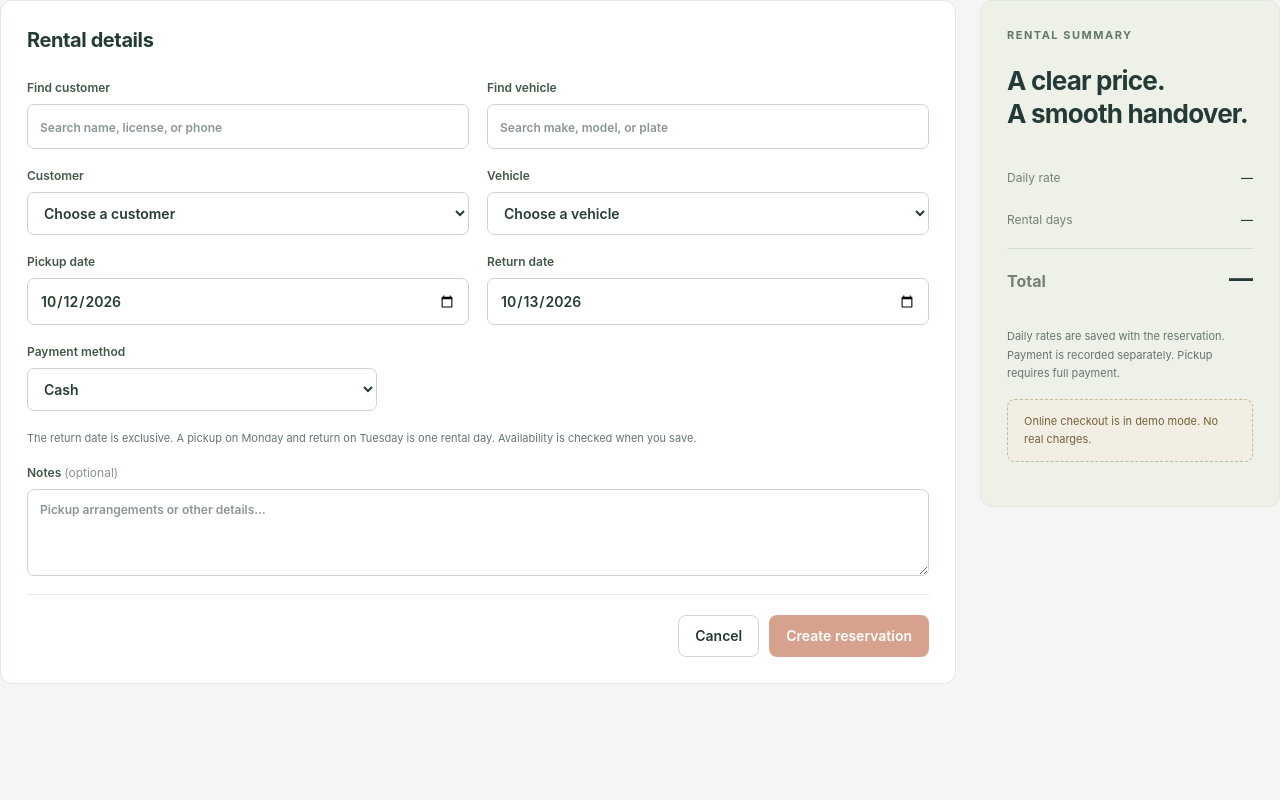
Test: booking conflicts disable reservation submission and show the server reason
Select "Jordan Lee · DEMO-1002" in the dropdown labelled "Customer". click: (248, 214)
box: [27,192,469,235]
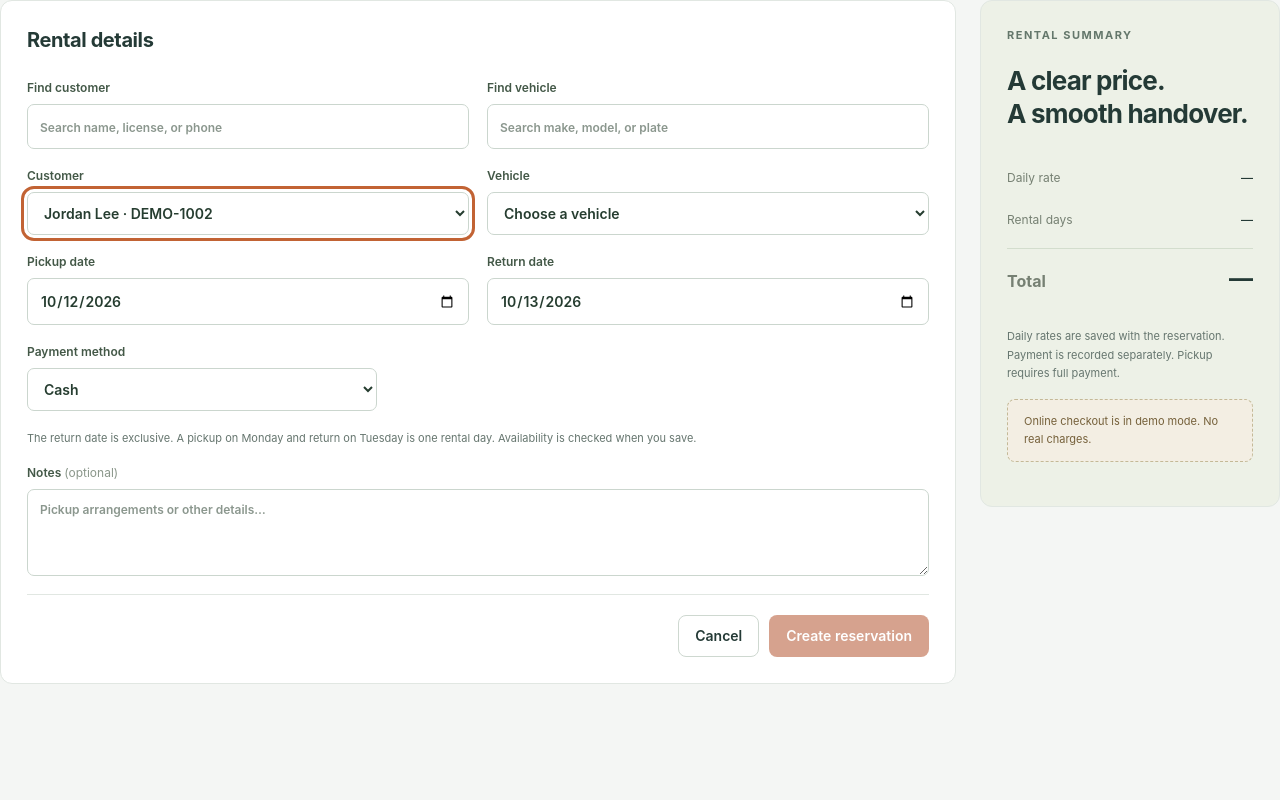
Select "Toyota Corolla · RD-100 · $45.00/day" in the dropdown labelled "Vehicle". click: (708, 214)
box: [487,192,929,235]
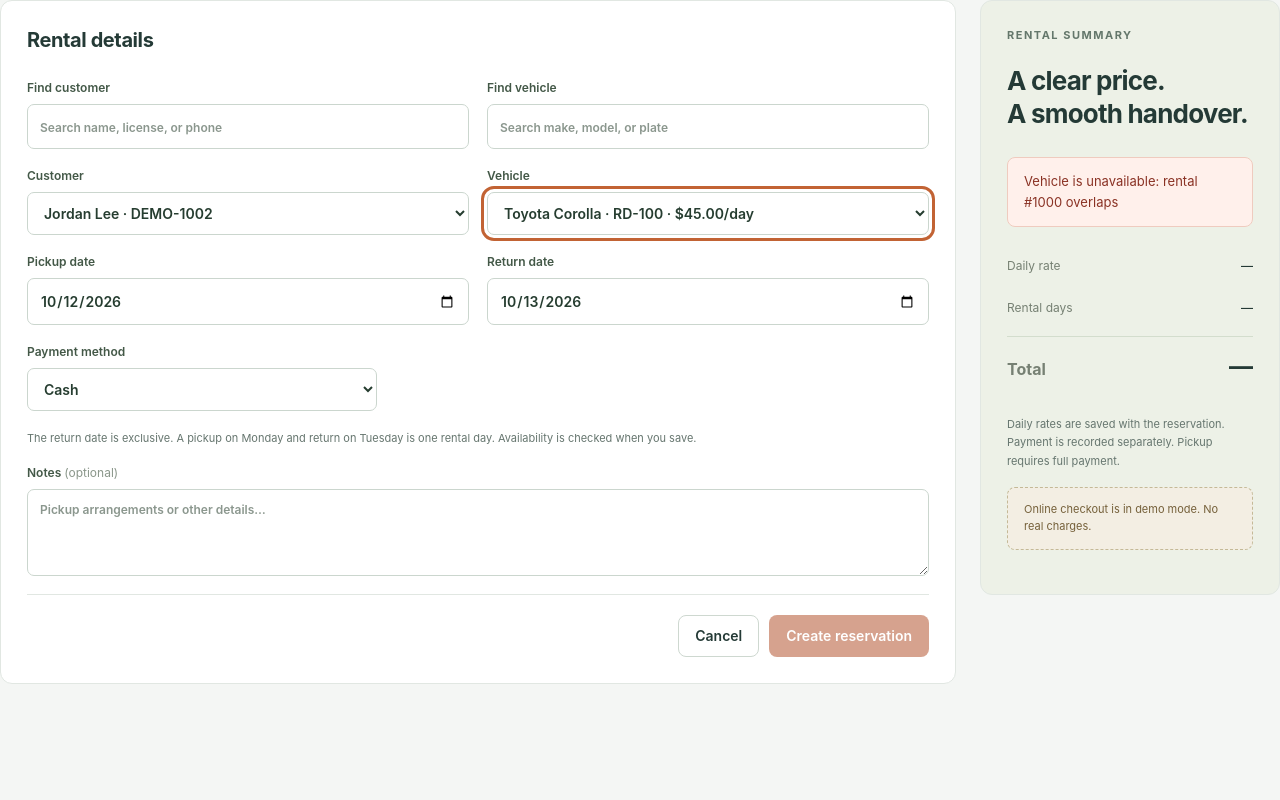
Check: the button "Create reservation" is disabled, box [769,615,929,657]
Check: the text "Vehicle is unavailable: rental #1000 overlaps" is shown, box [1007,157,1253,227]
